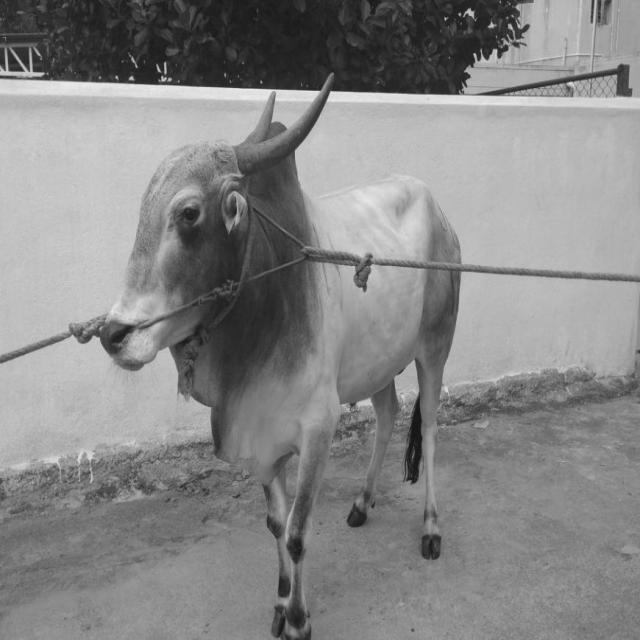Cow: (97, 70, 464, 637)
